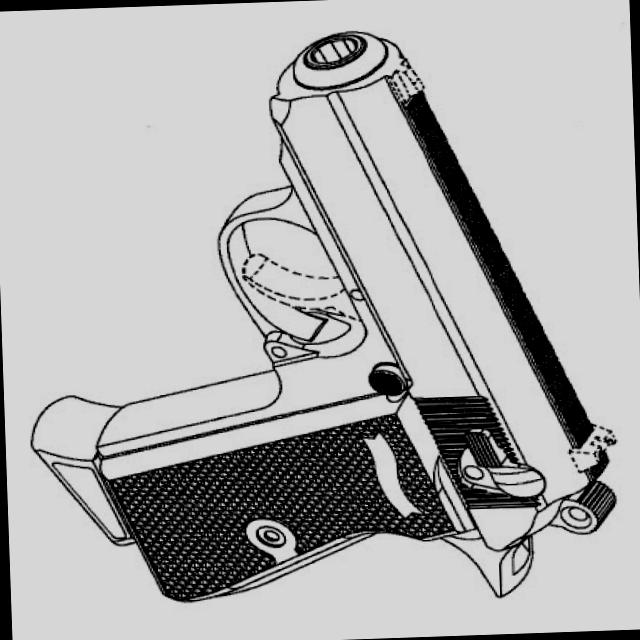handgun: (21, 25, 624, 622)
